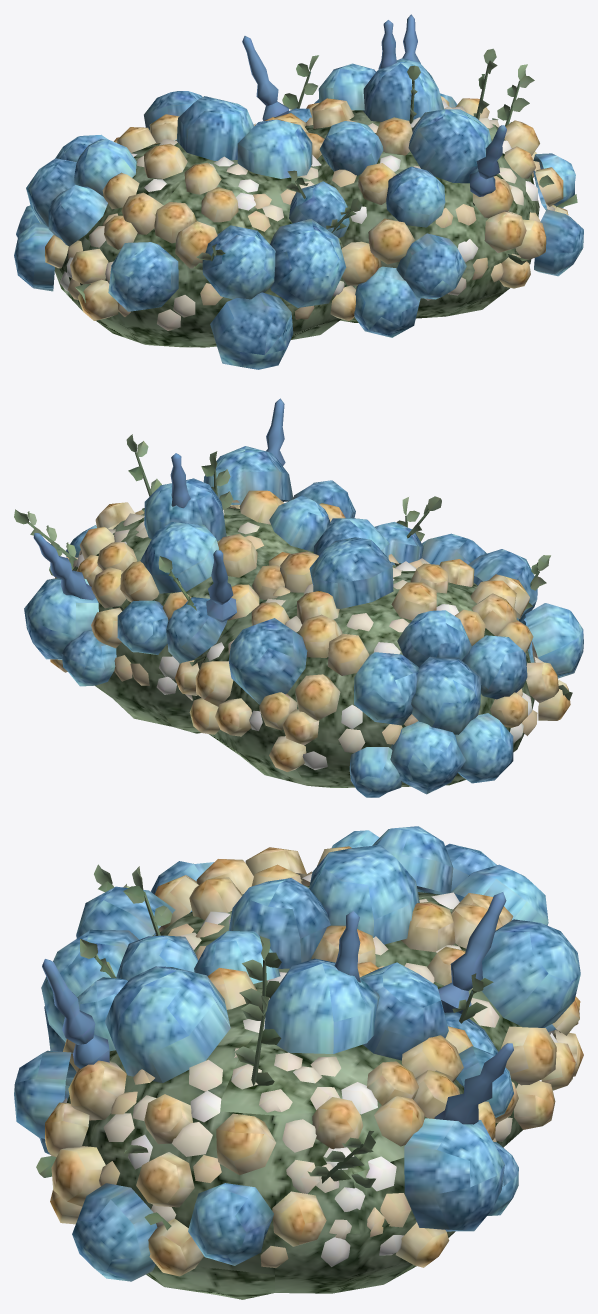
File: cluster_a.glb
3 views of the same model, one above another, from view 1: azimuth 30°, elevation 25°; view 2: azimuth 150°, elevation 25°; view 3: azimuth 270°, elevation 25° (orthographic). The views are drawn at different scales.
Parts seen in each view (by area): view 1: cluster_a; view 2: cluster_a; view 3: cluster_a.
Part boxes in pixels (x1=…): cluster_a: x1=14, y1=14, x2=583, y2=369; cluster_a: x1=14, y1=398, x2=583, y2=797; cluster_a: x1=14, y1=826, x2=583, y2=1299.
Size of the model in its own units: 1.3 by 0.6649 by 0.9136.
1 material, 1 textured.
